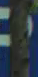Parking: (0, 1, 32, 74)
